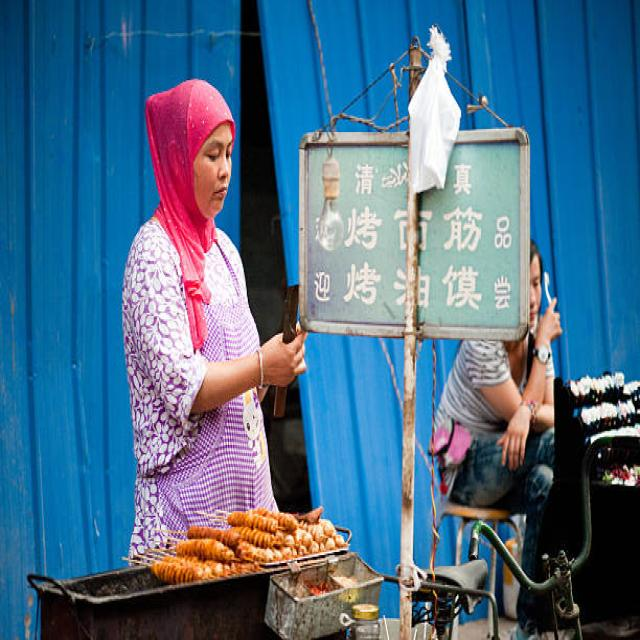Emperan: (21, 287, 360, 640)
